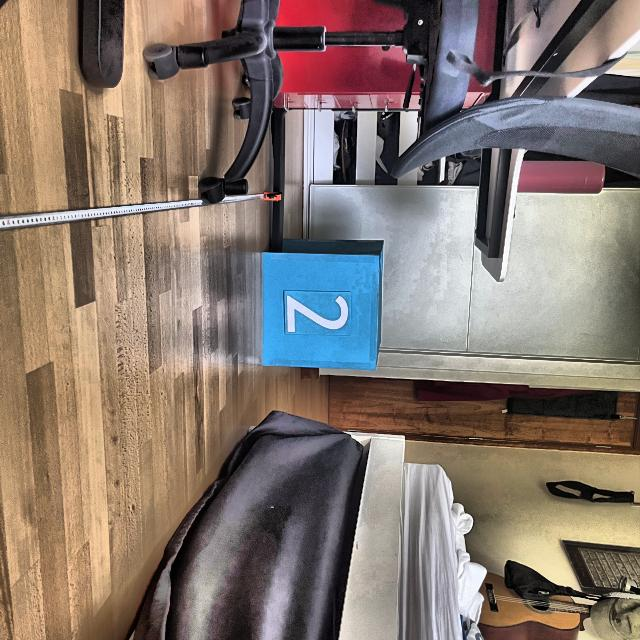blue box: (262, 235, 382, 372)
two: (284, 292, 349, 334)
